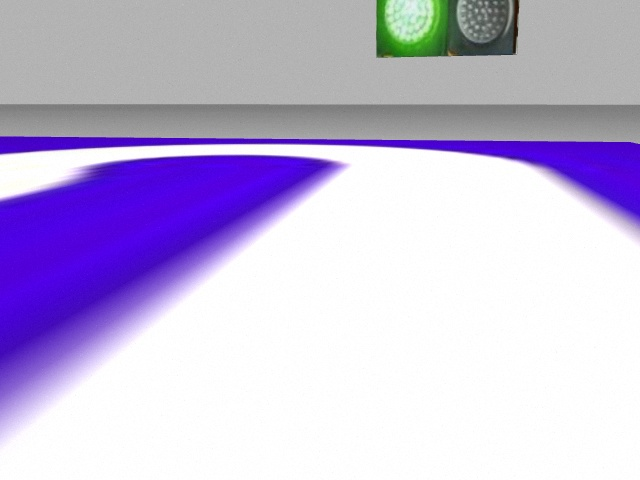green: (376, 1, 448, 58)
